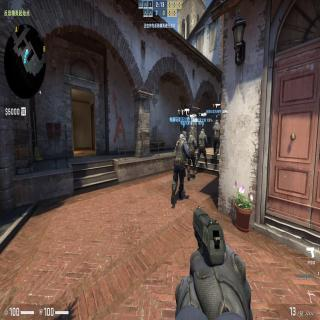CT-Body: (170, 130, 190, 203), (186, 132, 196, 178), (197, 128, 208, 168), (212, 118, 220, 161)
CT-Head: (182, 131, 188, 138), (191, 131, 194, 138), (201, 128, 204, 134), (215, 120, 218, 126)
